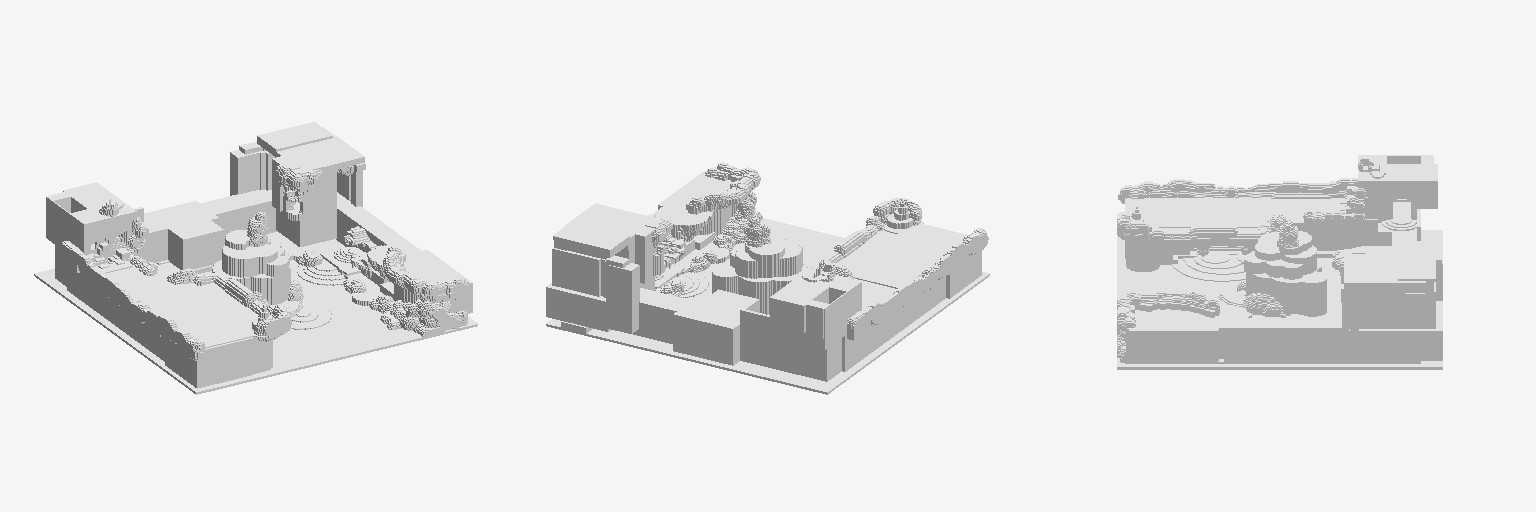
File: snowBiome4.obj
3 views of the same model, side by side, from view 1: azimuth 30°, elevation 25°; view 2: azimuth 150°, elevation 25°; view 3: azimuth 270°, elevation 25° (orthographic).
Parts seen in each view (by area): view 1: object 1; view 2: object 1; view 3: object 1.
Part boxes in pixels (x1,y1,x2,y2): object 1: (34, 122, 477, 394); object 1: (546, 162, 989, 394); object 1: (1117, 155, 1442, 369).
Size of the model in its own units: 25.6 by 7.8 by 25.6.